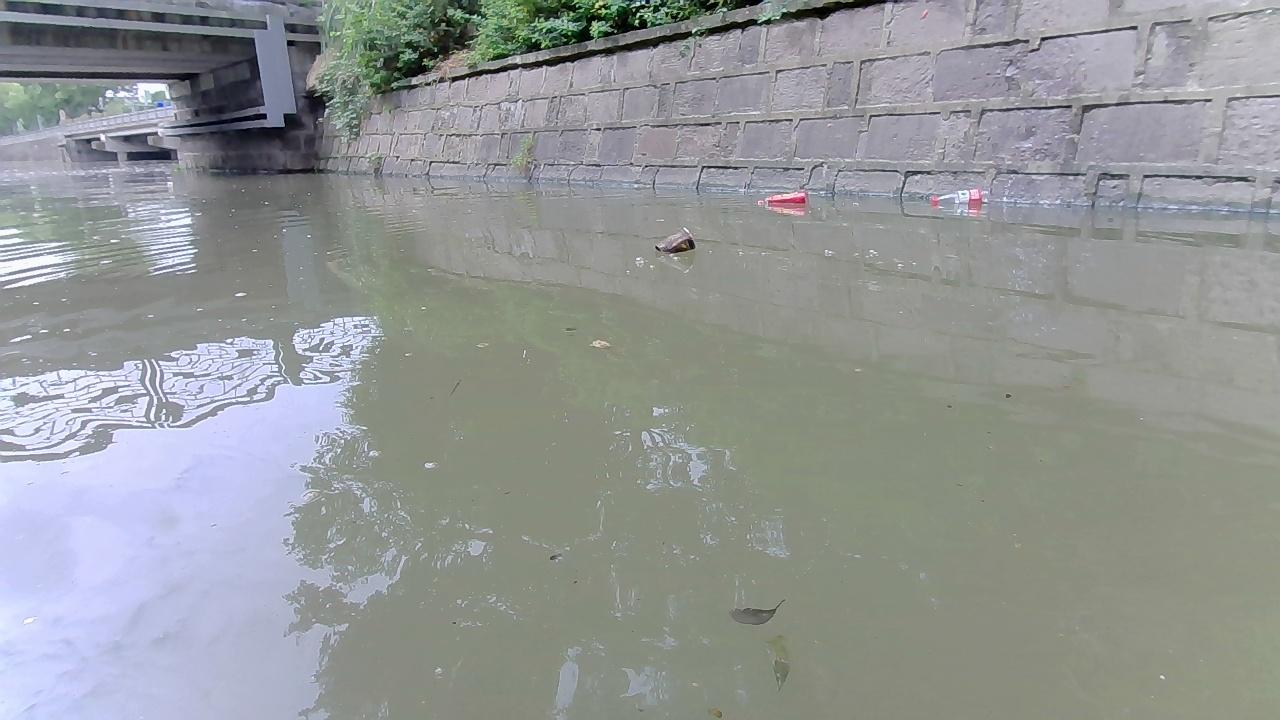bottle: (930, 185, 991, 210), (651, 222, 694, 252), (755, 188, 807, 209)
